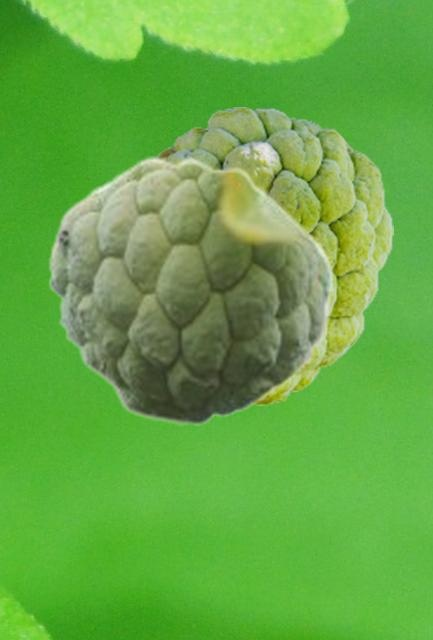atis: (47, 156, 335, 424), (153, 107, 392, 404)
